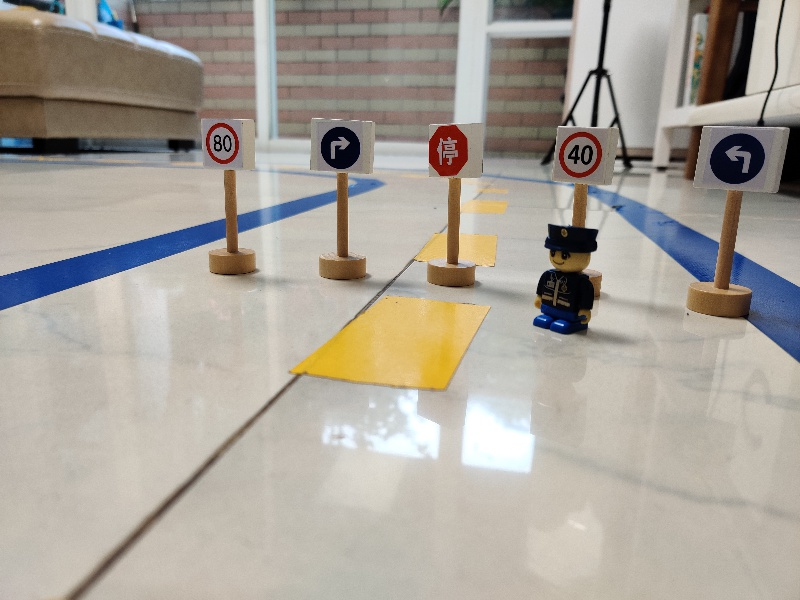limit_40: (550, 126, 619, 187)
limit_80: (197, 112, 258, 173)
person: (521, 218, 602, 339)
stop: (423, 120, 485, 178)
turn_left: (690, 124, 792, 195)
turn_right: (303, 116, 377, 176)
